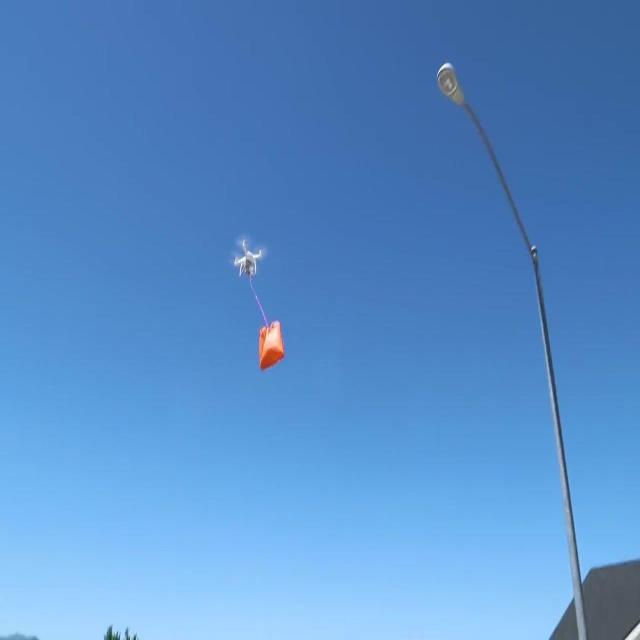drone: (232, 236, 265, 278)
